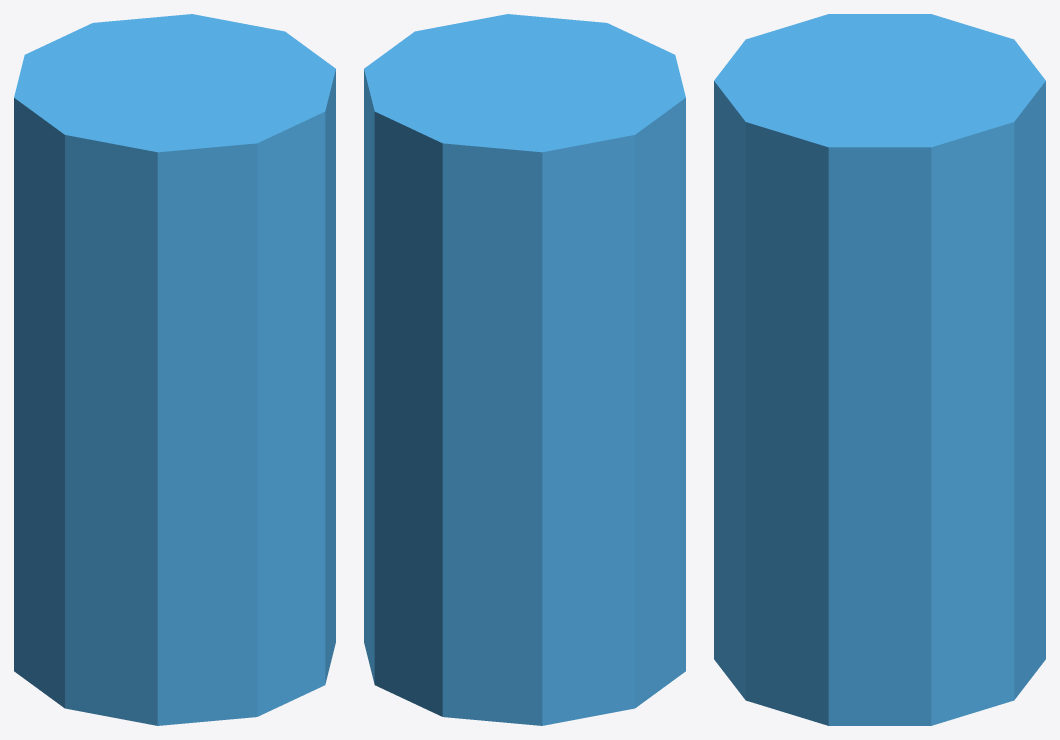
Rendered from prop_power_cell_glow.glb.
The picture shows the model from 3 angles, left to right: view 1: azimuth 30°, elevation 25°; view 2: azimuth 150°, elevation 25°; view 3: azimuth 270°, elevation 25°; orthographic projection.
Parts seen in each view (by area): view 1: prop_power_cell_glow; view 2: prop_power_cell_glow; view 3: prop_power_cell_glow.
Boxes of the visible parts, x1,y1,x2,y2 form: prop_power_cell_glow: (14, 14, 335, 725); prop_power_cell_glow: (364, 14, 685, 725); prop_power_cell_glow: (714, 14, 1045, 725).
Size of the model in its own units: 0.1236 by 0.25 by 0.13.
1 material, 1 textured.
